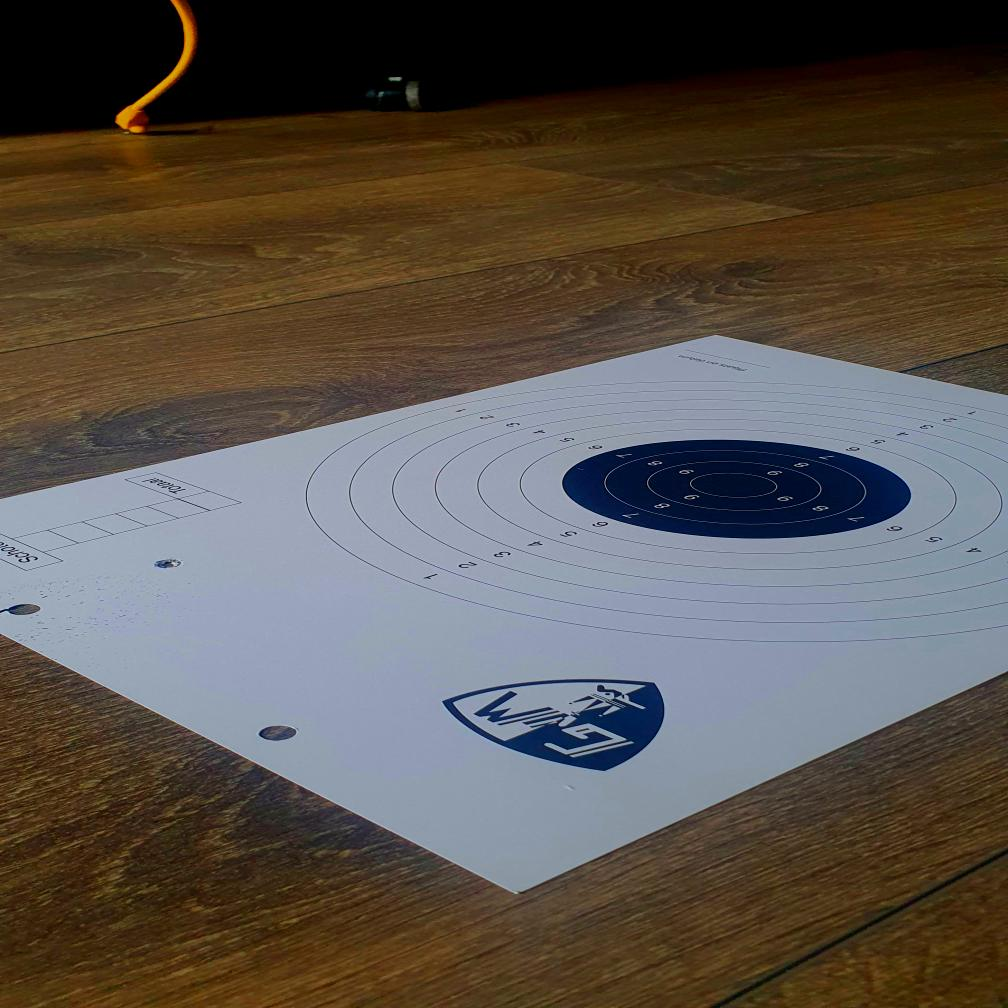0: (151, 558, 186, 570)
Target: (301, 378, 1008, 643)
black_contour: (560, 440, 909, 539)
